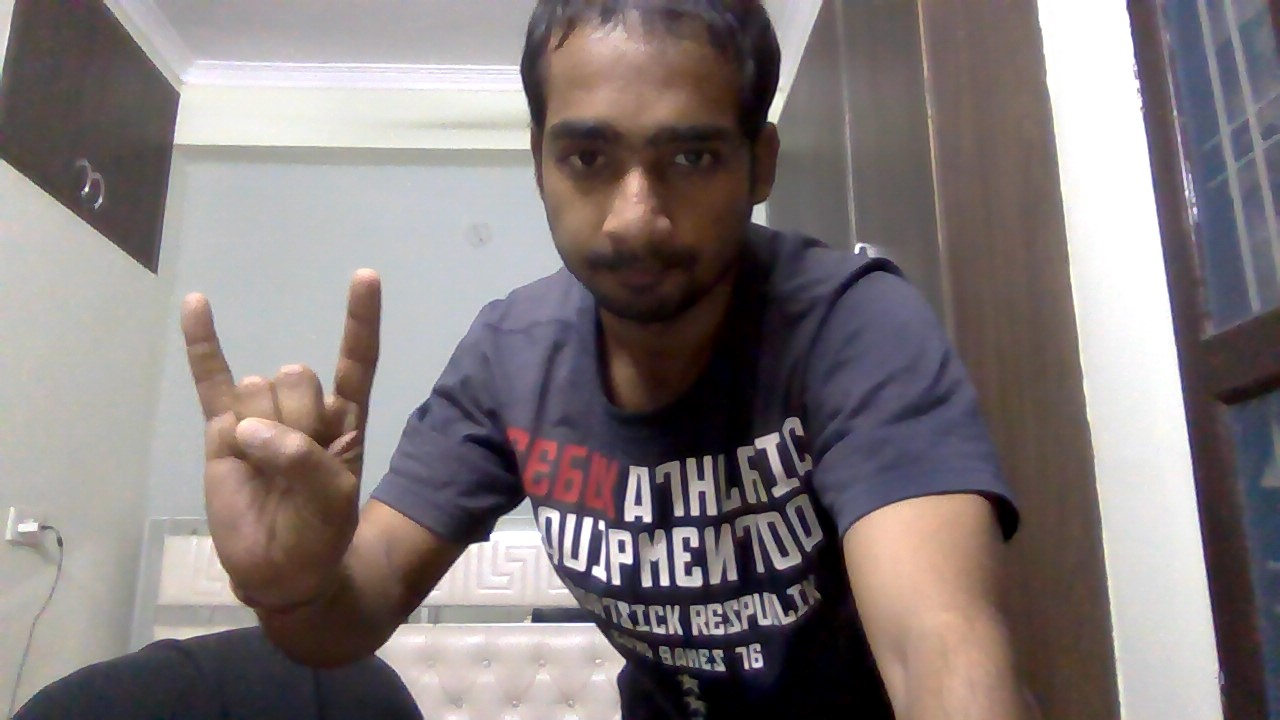Select All: (165, 263, 392, 607)
